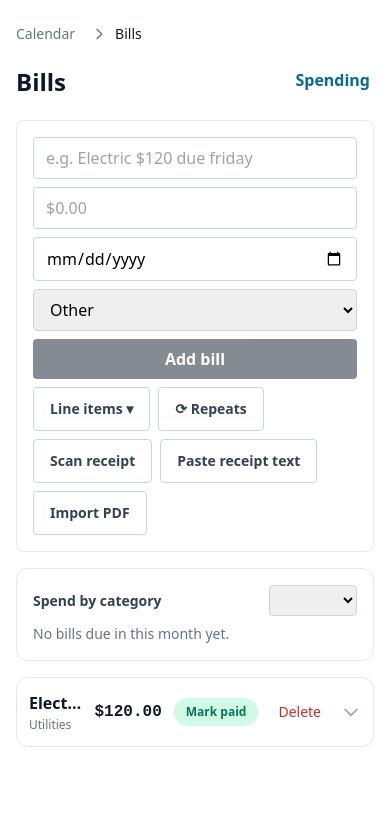
Test: bill detail row (storage-free, issue 010) › expands to the storage-free note with no images and no attach affordance
Click the button named "Show details for Electric".
click(351, 712)  # box [341,690,361,734]
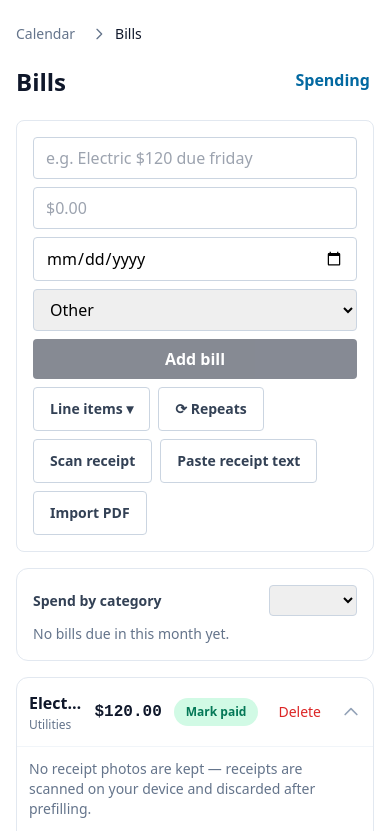
Expected: the text "scanned on your device and discarded" is shown, [29,759,315,818]
